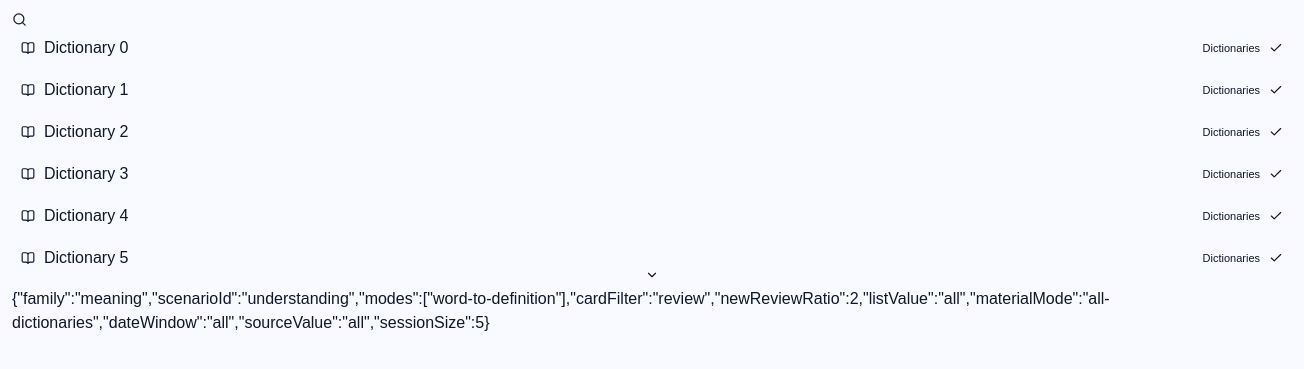
large list search and type filters are opt-in
The image size is (1304, 369).
Click the button named "Search sources" at [20, 20], box [12, 12, 27, 27]
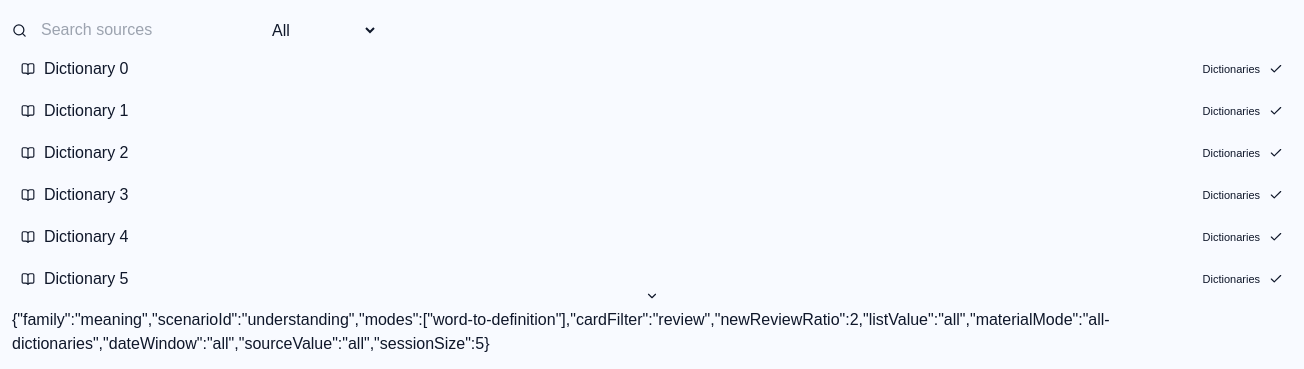
Type "My words" into the field at [144, 30], box [35, 12, 254, 48]
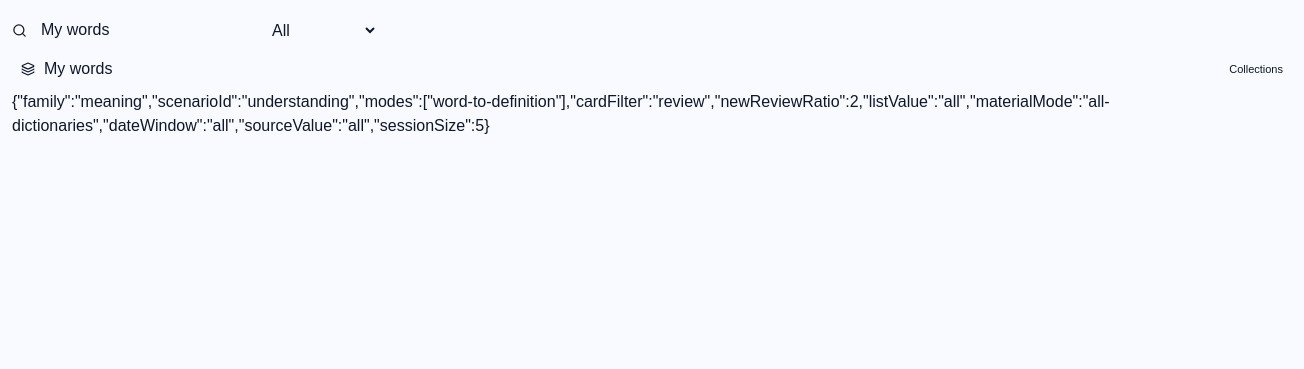
Check: the button "Dictionary 0" is gone
Select "Dictionaries" in the dropdown at [320, 30], box [262, 12, 378, 48]
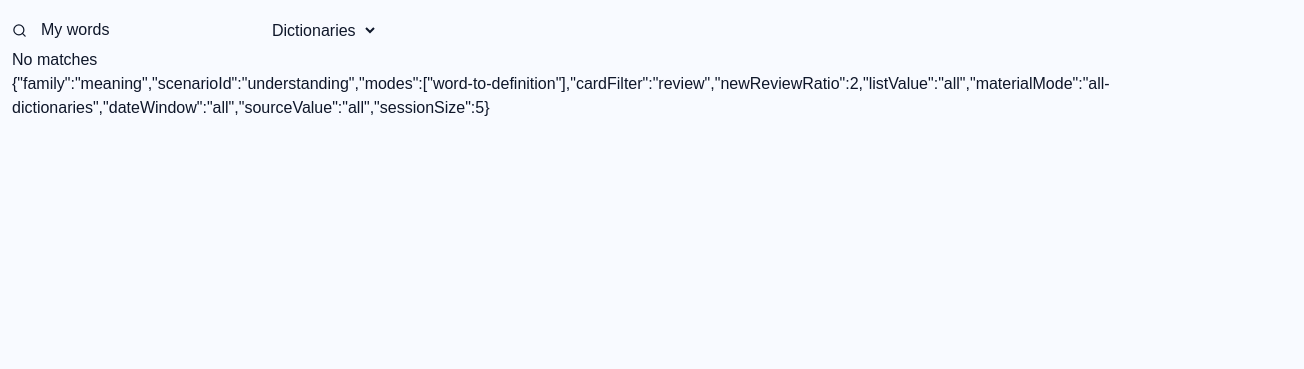
Check: the text "No matches" is shown, box [12, 51, 97, 68]
